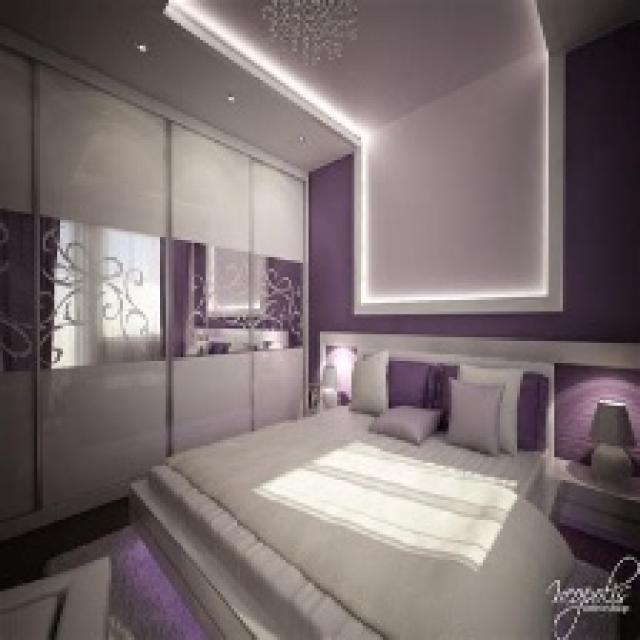Bed: (126, 349, 574, 637)
